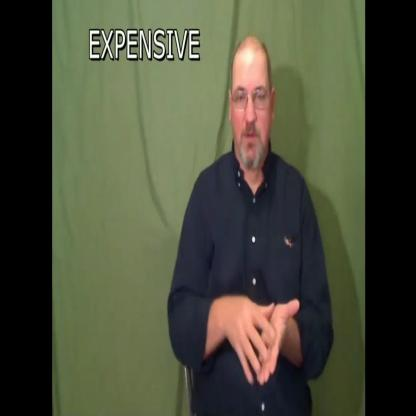Expensive: (168, 33, 335, 416)
